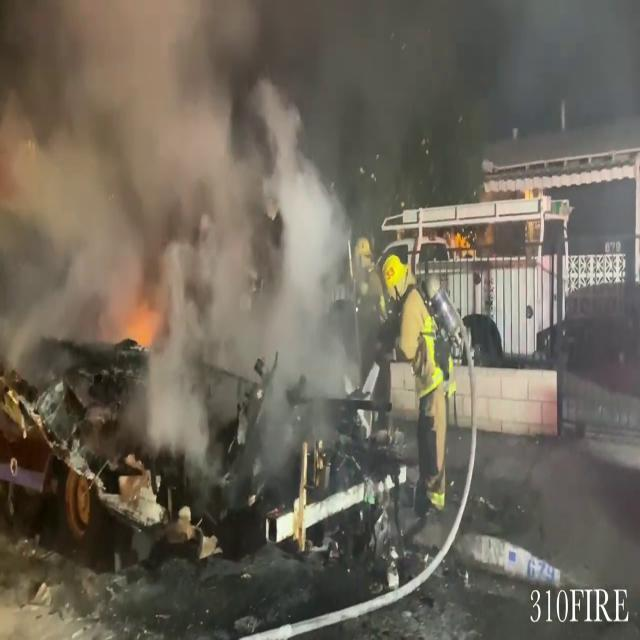Smoke: (2, 0, 640, 382), (0, 0, 392, 425)
